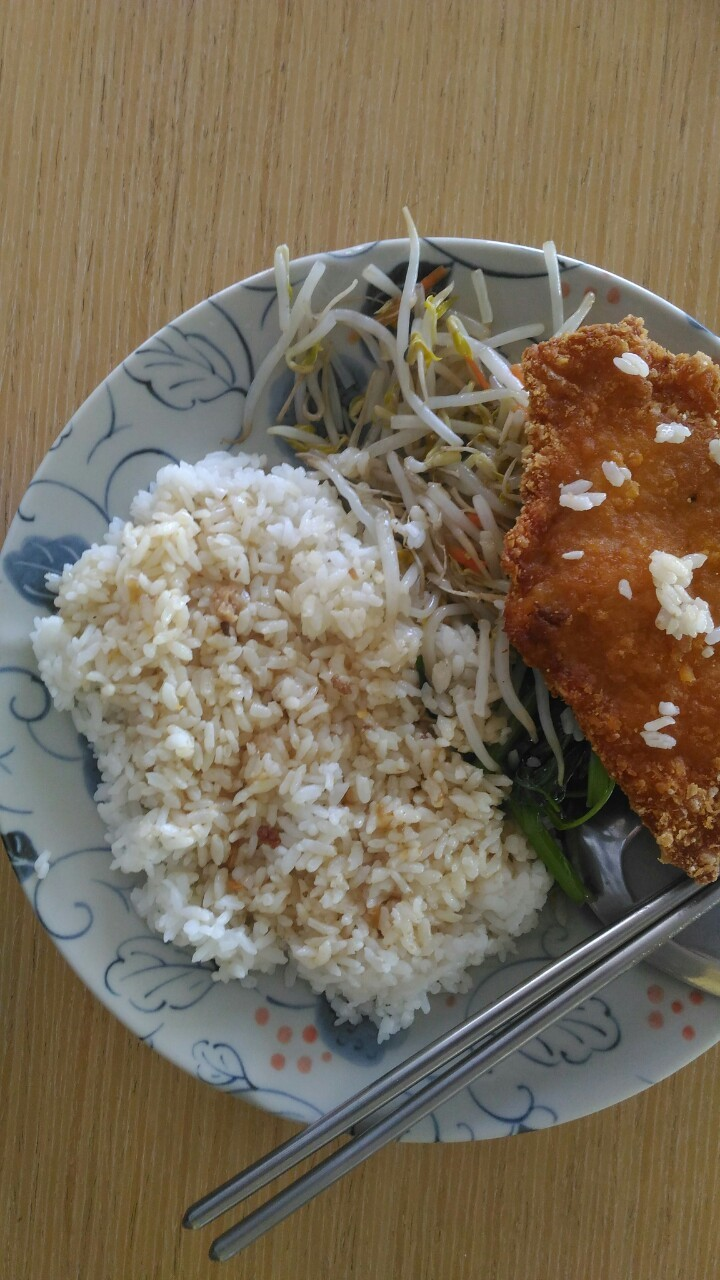fried_chicken: (535, 334, 720, 828)
mung_bean_sprouts: (317, 328, 514, 502)
rice: (153, 576, 457, 913)
